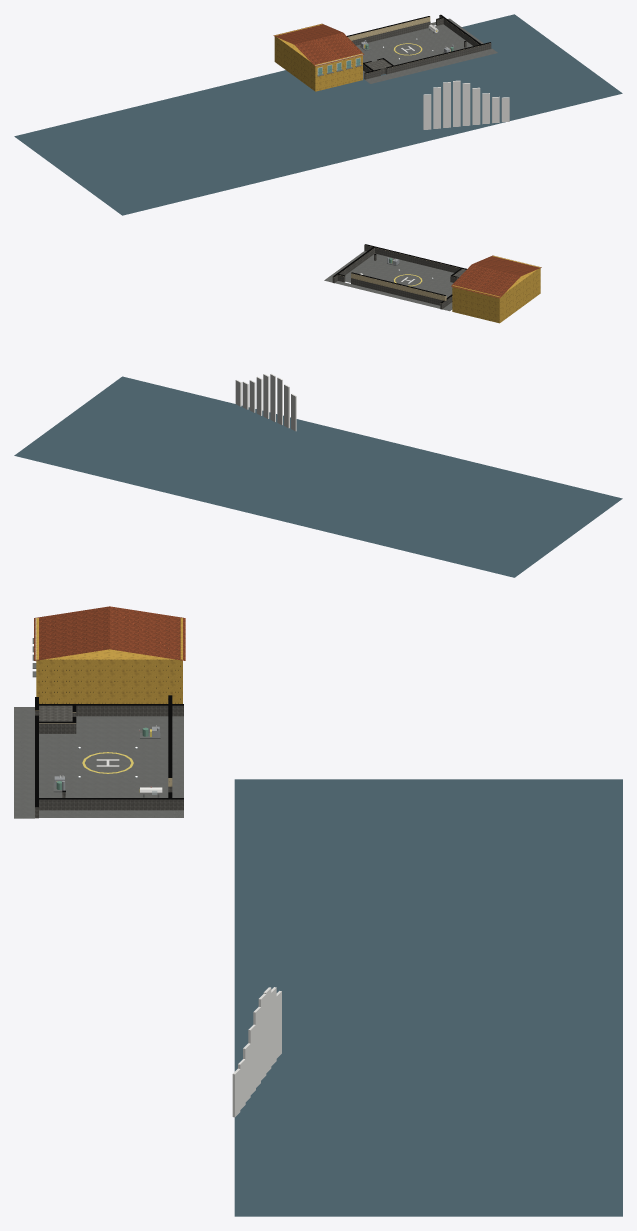
File: marques_heliponto.glb
The picture shows the model from 3 angles, top to bottom: view 1: azimuth 30°, elevation 25°; view 2: azimuth 150°, elevation 25°; view 3: azimuth 270°, elevation 25°; orthographic projection. The views are drawn at different scales.
Visible parts, largest first — view 1: Lapa_lagoon, Lapa_helipad, Lapa_white, Lapa_side_facade_yellow, Lapa_side_roof, Lapa_concrete, Lapa_cap, Lapa_plaster; view 2: Lapa_lagoon, Lapa_helipad, Lapa_side_facade_yellow, Lapa_white, Lapa_side_roof, Lapa_concrete, Lapa_plaster, Lapa_cap; view 3: Lapa_lagoon, Lapa_helipad, Lapa_side_facade_yellow, Lapa_side_roof, Lapa_concrete, Lapa_white, Lapa_cap.
Part boxes in pixels (left/top/right/bottom): Lapa_lagoon: left=14, top=14, right=622, bottom=215; Lapa_helipad: left=356, top=18, right=497, bottom=83; Lapa_white: left=362, top=24, right=509, bottom=129; Lapa_side_facade_yellow: left=274, top=24, right=362, bottom=91; Lapa_side_roof: left=273, top=23, right=363, bottom=66; Lapa_concrete: left=352, top=15, right=491, bottom=79; Lapa_cap: left=347, top=14, right=490, bottom=73; Lapa_plaster: left=348, top=17, right=490, bottom=73; Lapa_lagoon: left=14, top=376, right=622, bottom=577; Lapa_helipad: left=324, top=251, right=453, bottom=311; Lapa_side_facade_yellow: left=452, top=255, right=540, bottom=323; Lapa_white: left=235, top=259, right=414, bottom=431; Lapa_side_roof: left=451, top=255, right=541, bottom=298; Lapa_concrete: left=332, top=245, right=465, bottom=309; Lapa_plaster: left=340, top=246, right=456, bottom=300; Lapa_cap: left=333, top=244, right=466, bottom=303; Lapa_lagoon: left=234, top=779, right=622, bottom=1216; Lapa_helipad: left=14, top=707, right=183, bottom=818; Lapa_side_facade_yellow: left=36, top=618, right=182, bottom=703; Lapa_side_roof: left=34, top=606, right=185, bottom=660; Lapa_concrete: left=35, top=705, right=183, bottom=818; Lapa_white: left=59, top=725, right=281, bottom=1117; Lapa_cap: left=35, top=695, right=183, bottom=807.
Bounding box in the file's own units: 120 × 37.4 × 70.6.
Materials: 20 (6 with a texture image).
